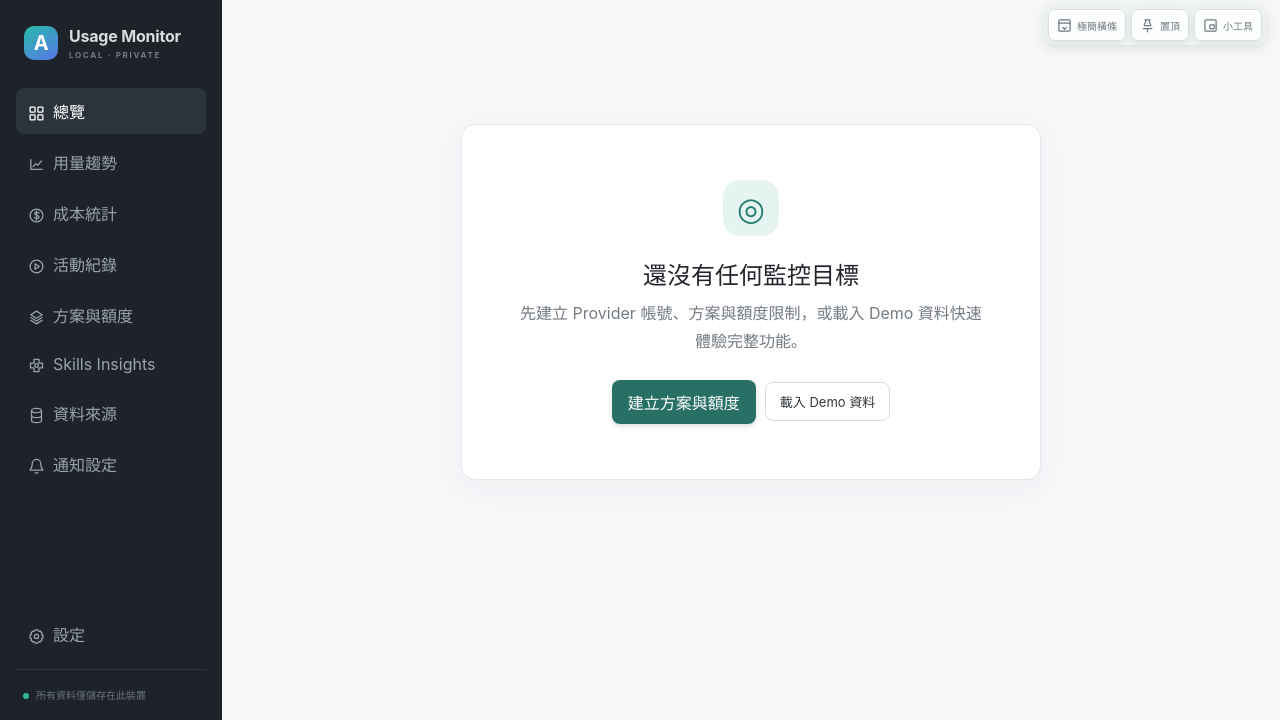
Scenario: Shared accessibility › shows the custom minimize control only in borderless widget mode
Check: the heading "還沒有任何監控目標" is shown, box [643,261,859,290]
Click the button "小工具". click: (1228, 25)
box: [1194,9,1262,41]
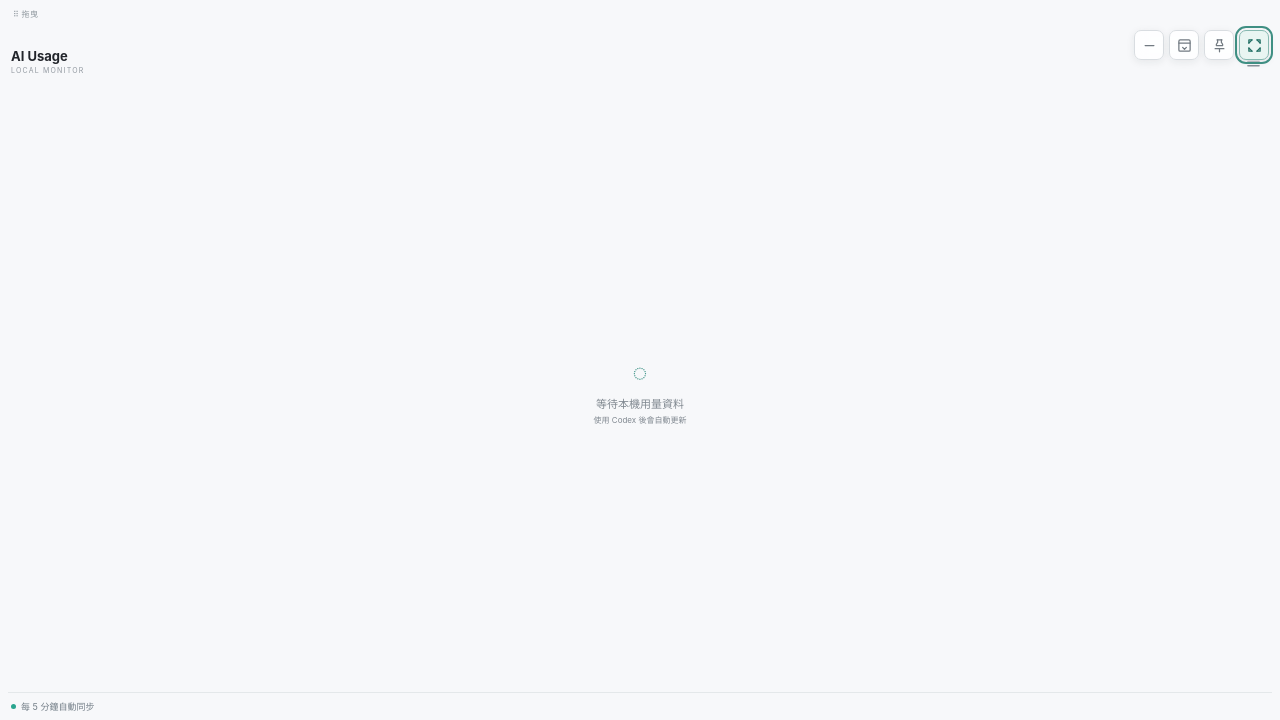
Check: the button named "縮到 Dock 或工作列" is shown, box [1134,30,1164,60]
